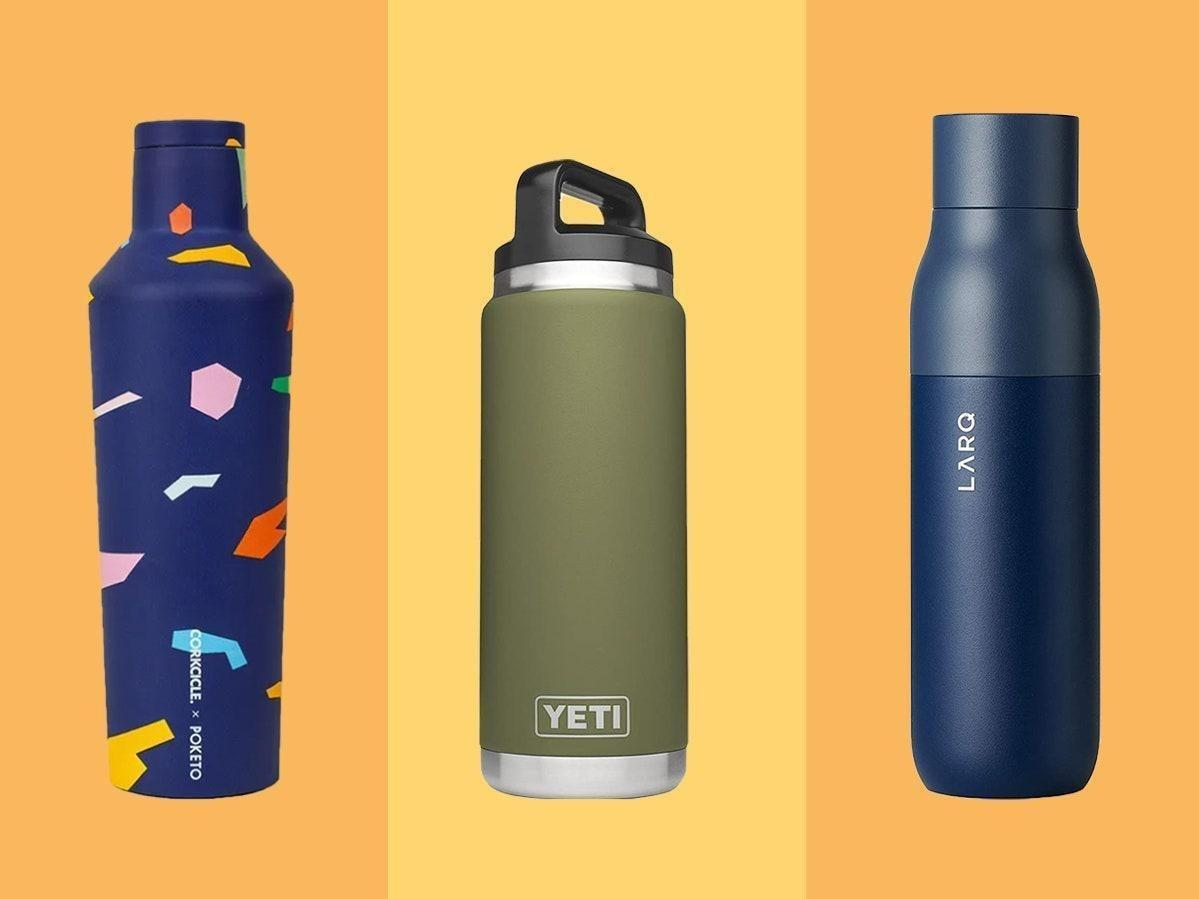gym bottle: (84, 110, 298, 805), (473, 156, 694, 804), (903, 108, 1107, 802)
